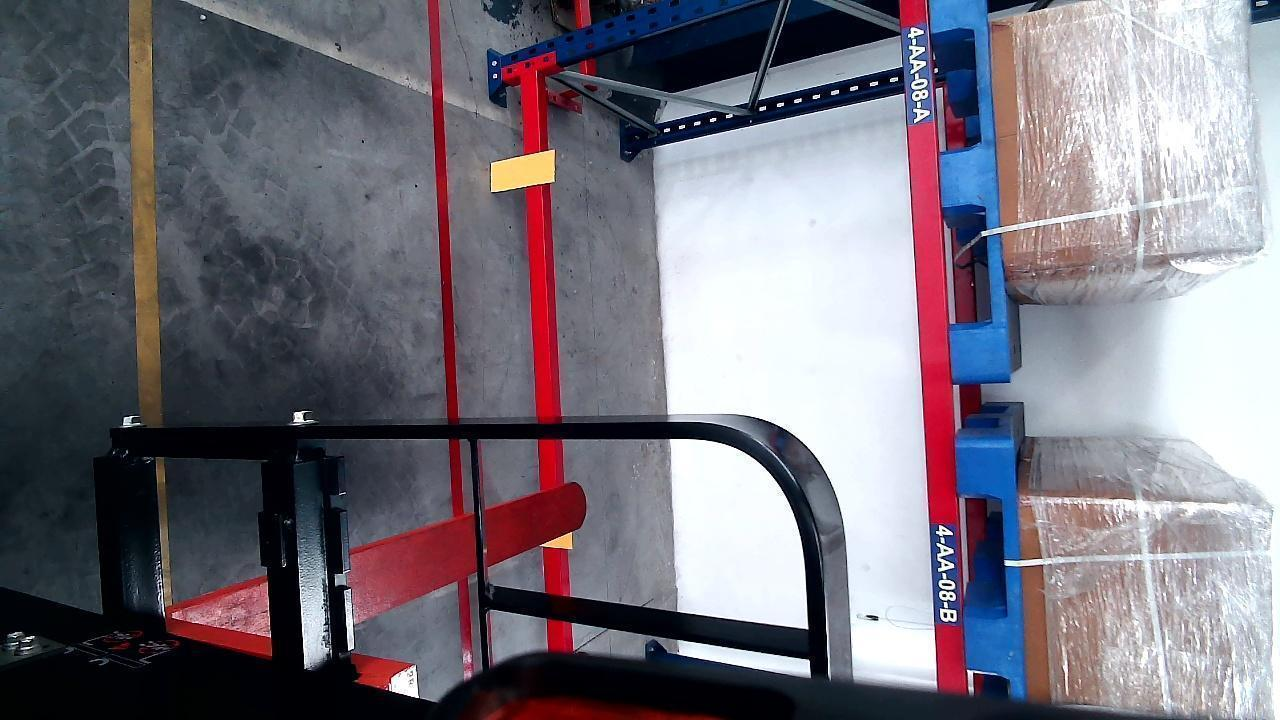red_line: (430, 0, 458, 428)
yellow_line: (131, 0, 160, 418)
